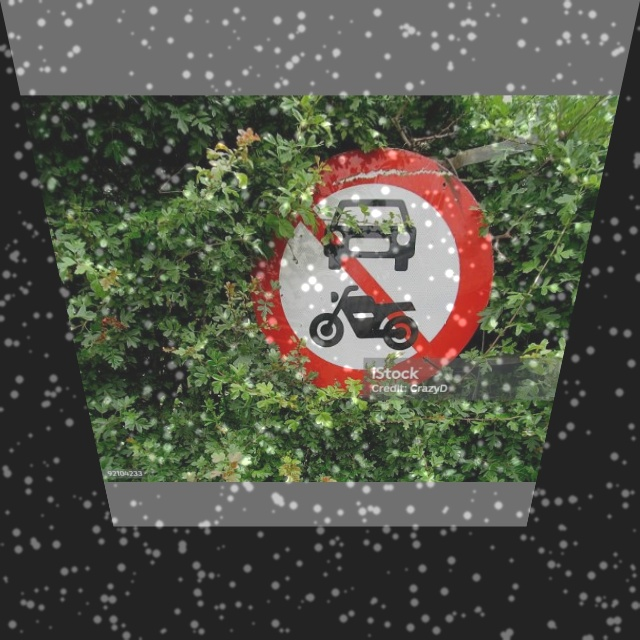All_Motor_Vehicles_Prohibited: (245, 149, 511, 398)
